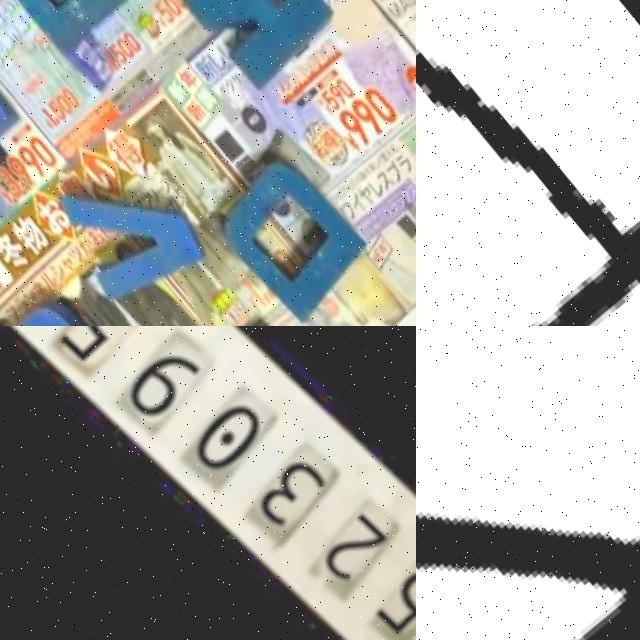0: (172, 375, 302, 499)
2: (307, 494, 416, 604)
3: (242, 438, 358, 550)
5: (42, 326, 167, 389), (364, 543, 416, 640)
9: (106, 326, 232, 443)
D: (416, 0, 640, 326), (202, 138, 395, 325)
J: (0, 279, 154, 326)
K: (160, 0, 355, 91)
M: (0, 0, 153, 62)
P: (0, 17, 33, 189)
V: (416, 326, 640, 640), (39, 137, 233, 324)
